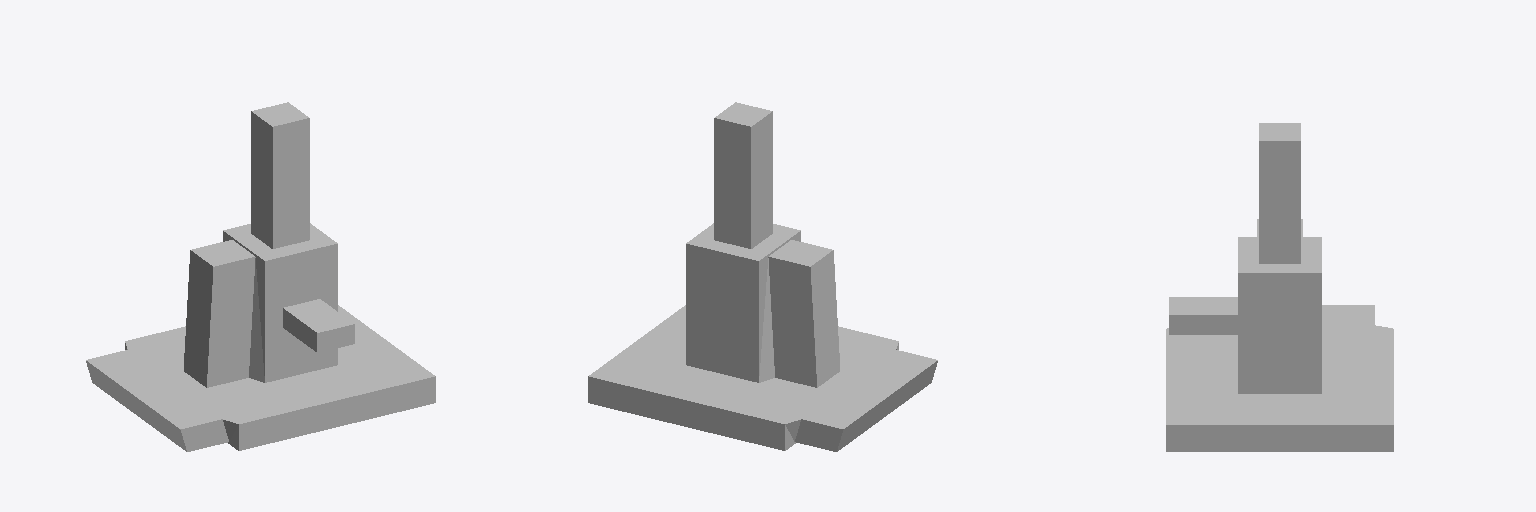
Rendered from indicator.obj.
The picture shows the model from 3 angles: view 1: azimuth 30°, elevation 25°; view 2: azimuth 150°, elevation 25°; view 3: azimuth 270°, elevation 25°; orthographic projection.
Parts seen in each view (by area): view 1: Cube; view 2: Cube; view 3: Cube.
Boxes of the visible parts, <box> form: Cube: <box>86,102,435,451</box>; Cube: <box>588,102,937,451</box>; Cube: <box>1166,123,1393,451</box>.
Size of the model in its own units: 2.5 by 2.63 by 2.